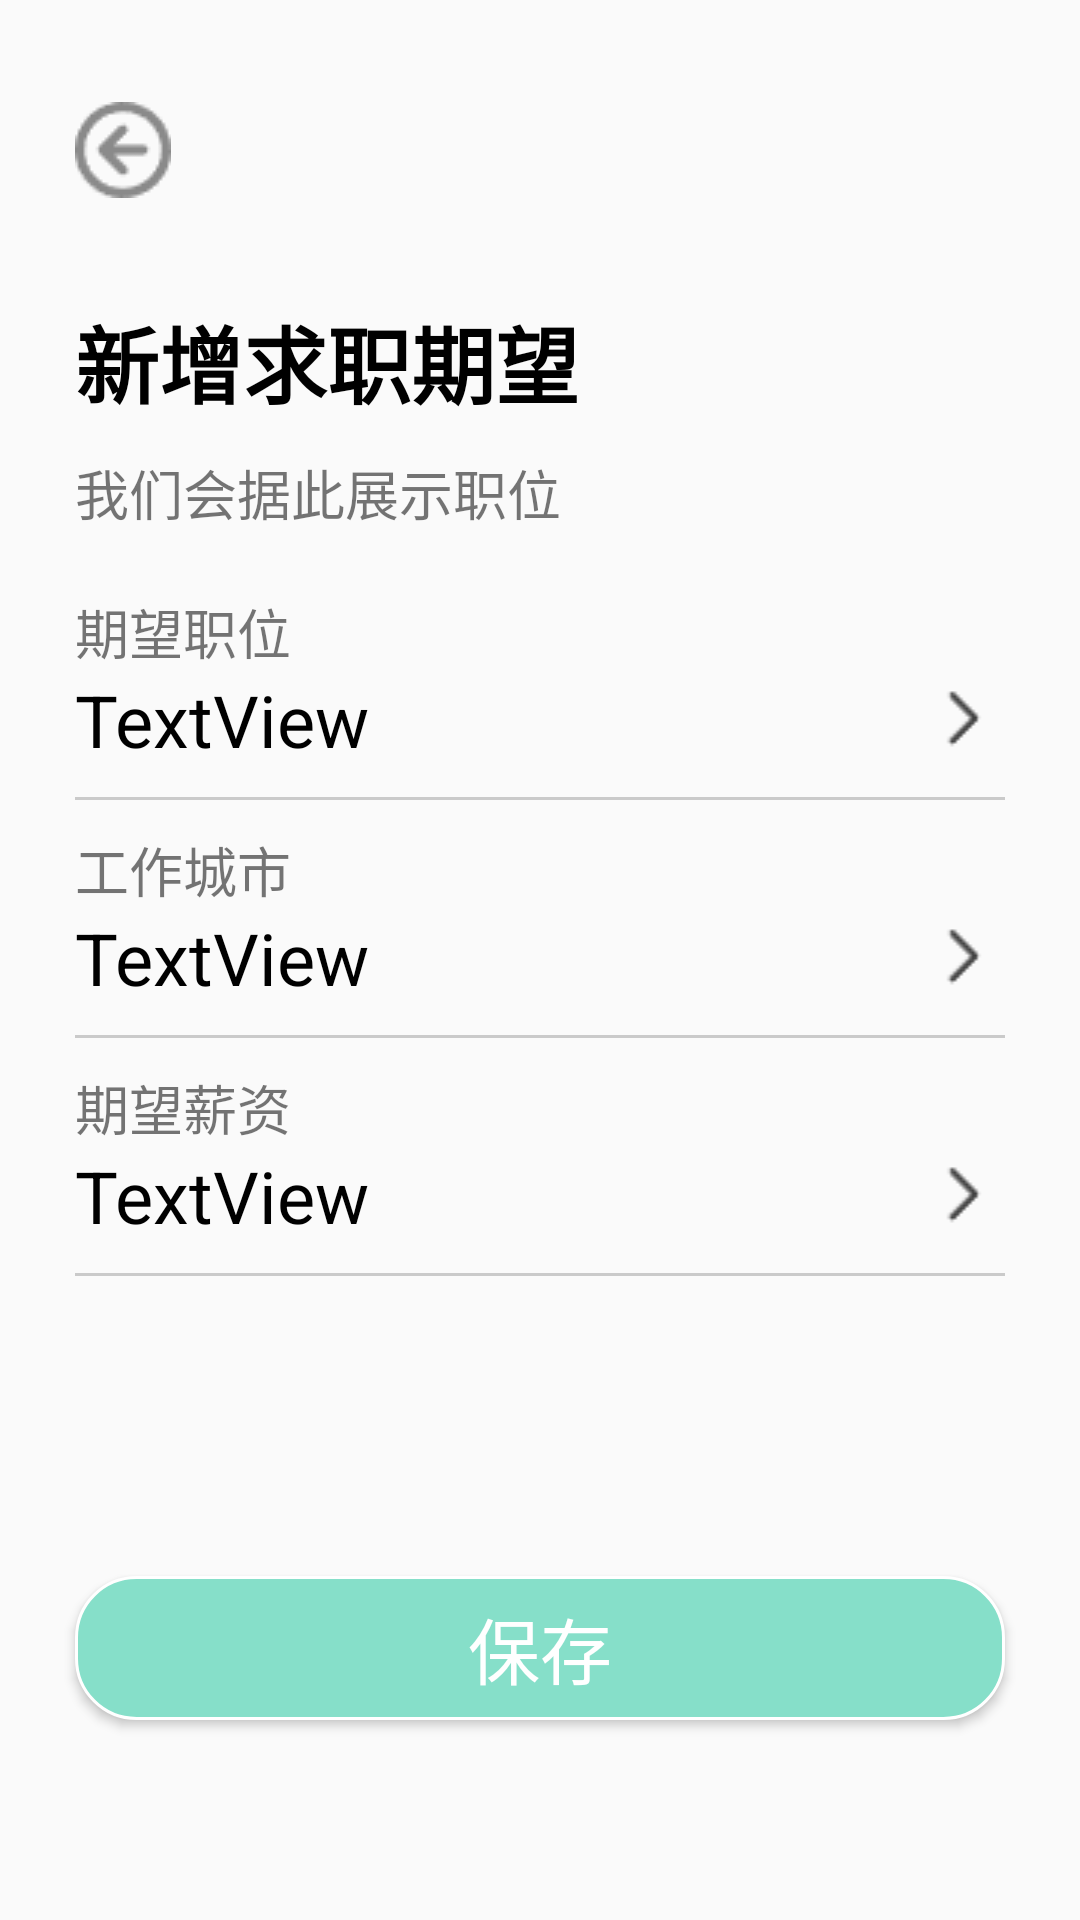

Point at icon controls on the screen. Image size 1080 × 1920, points as [x,y].
fanjhui: [123,150]
jinru: [963,718], [963,956], [963,1194]
